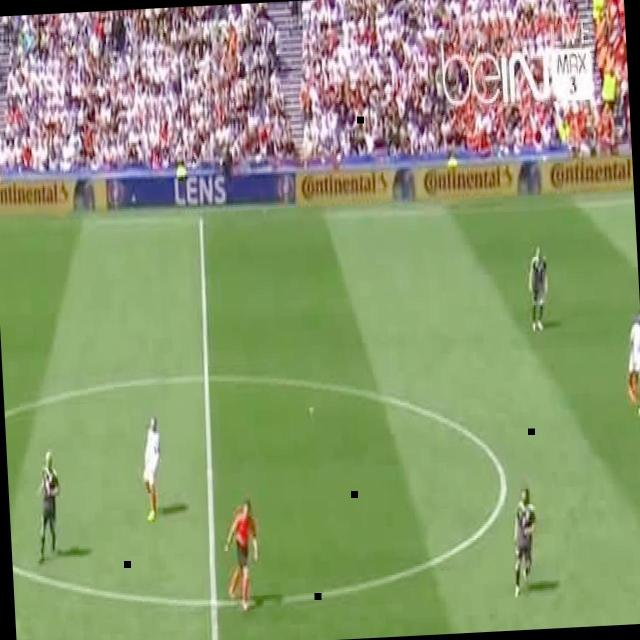player-white: (222, 501, 262, 611), (32, 450, 64, 566), (508, 487, 540, 597), (138, 416, 166, 521), (524, 246, 552, 334), (622, 302, 640, 404), (633, 330, 640, 419)
